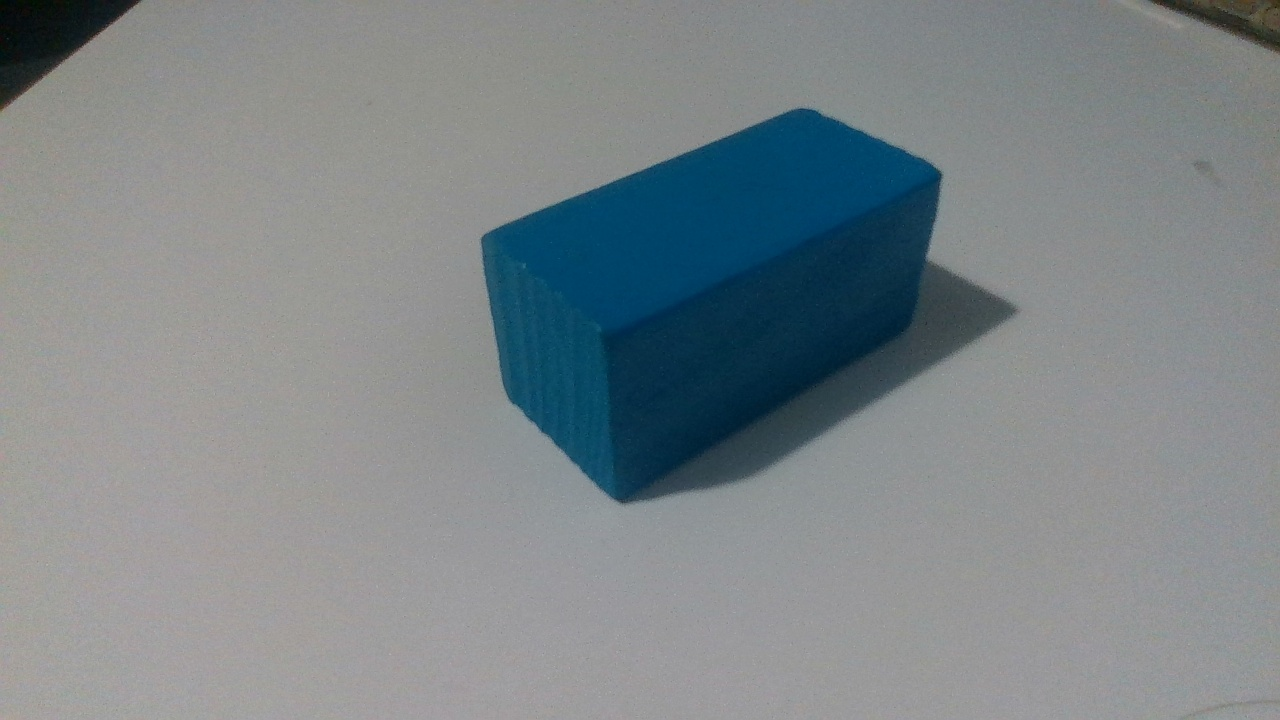cube: (490, 132, 695, 480)
